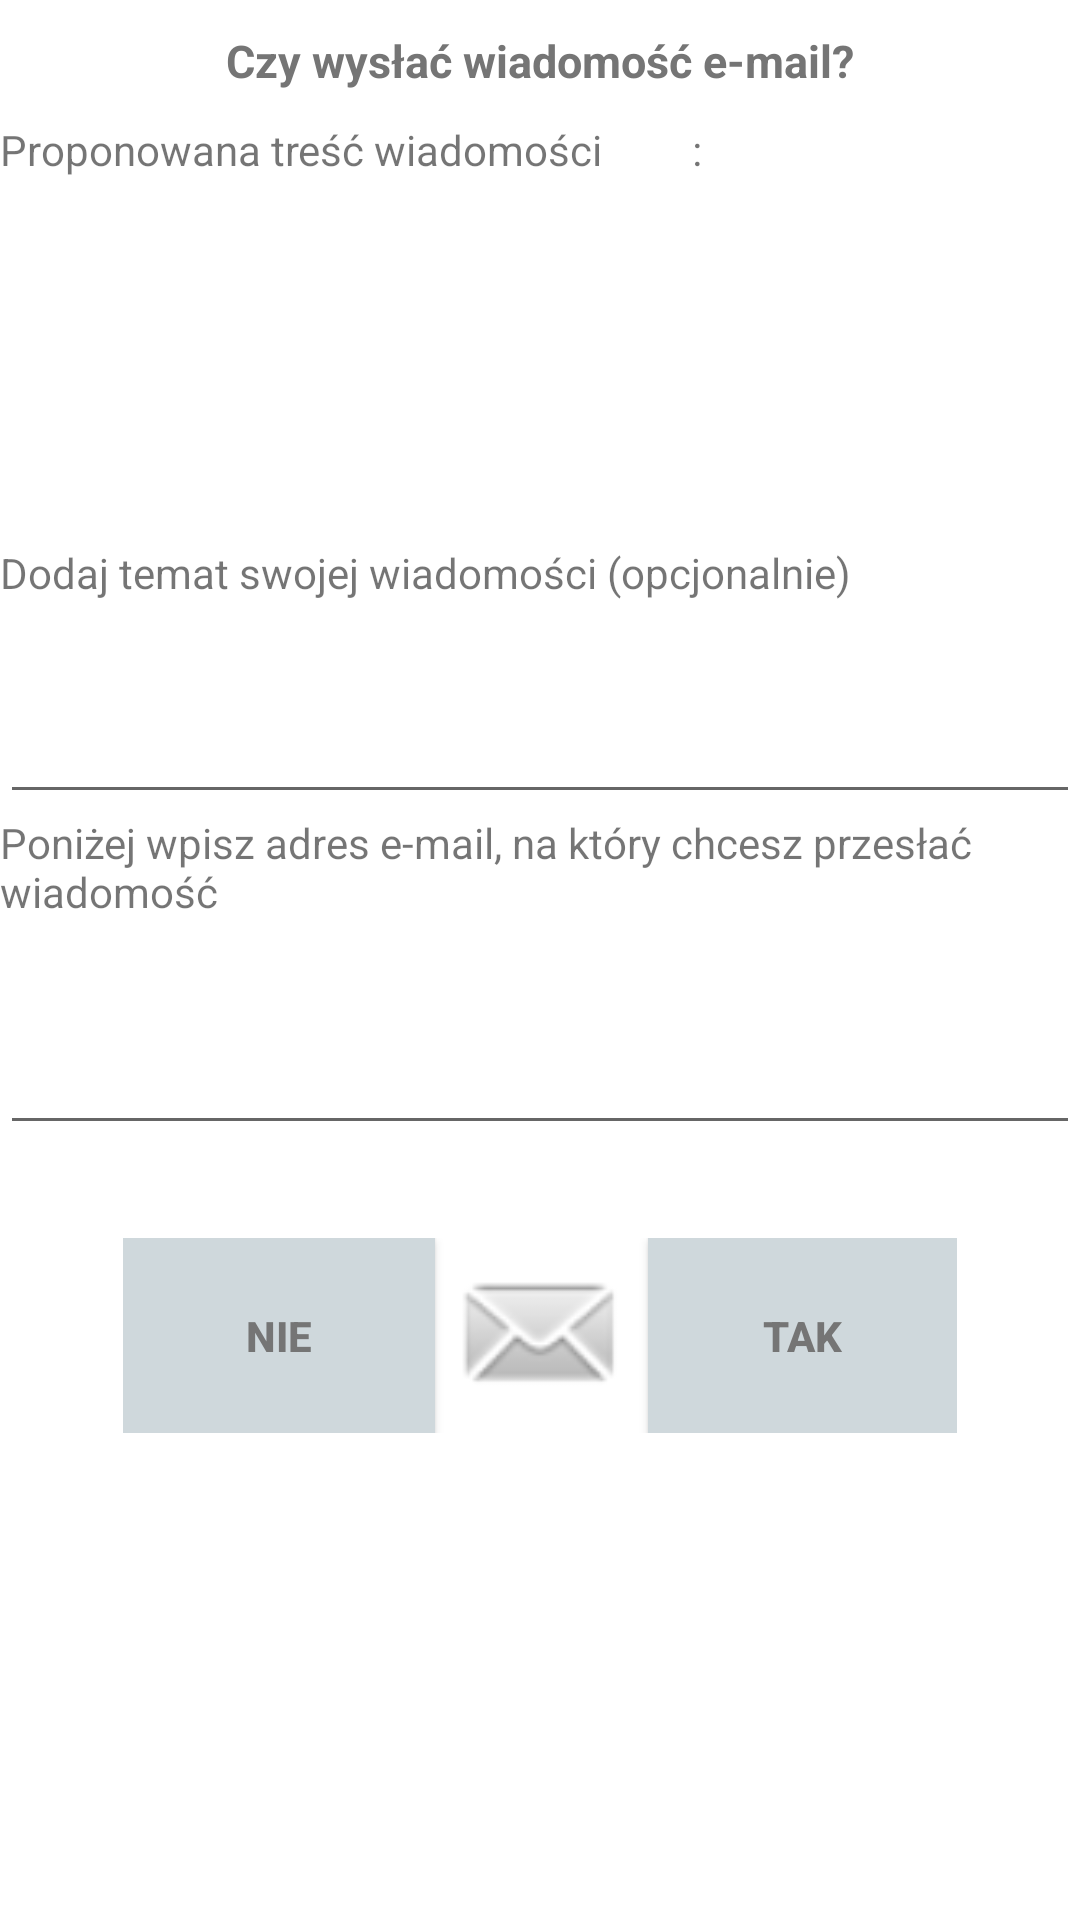

Where icons sit on this 1080w x 1920h app screen, as (x1=x1, y1=y1, x2=x2, y2=y2):
sym action email: (x1=465, y1=1284, x2=613, y2=1381)
